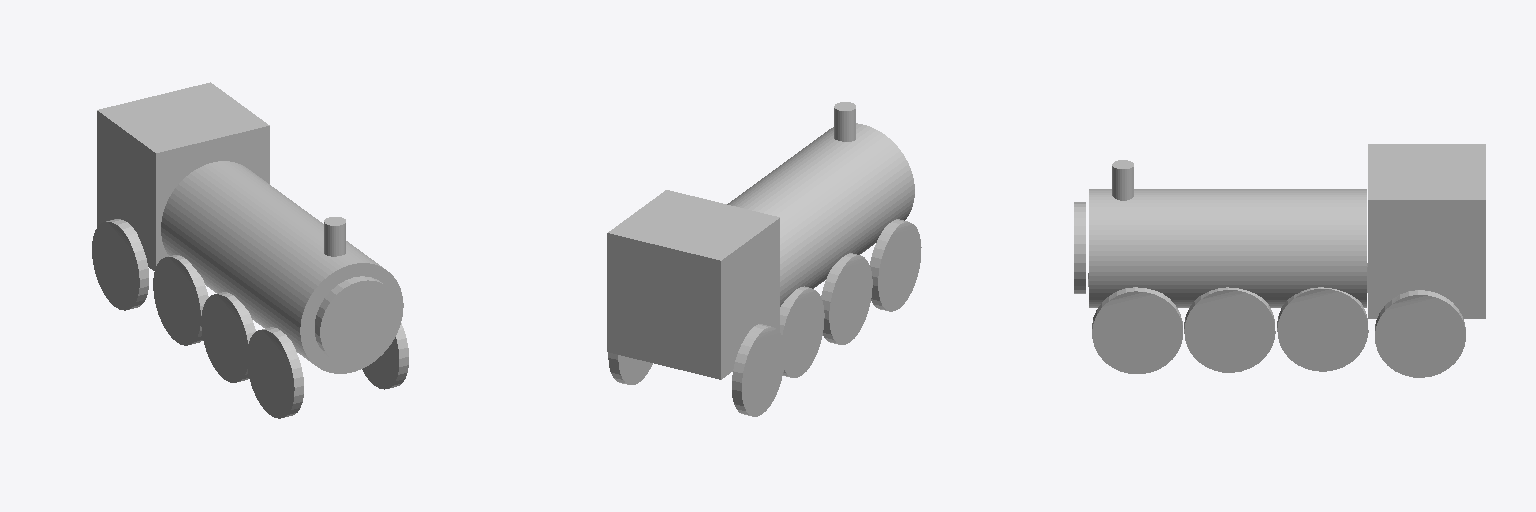
Rendered from trainHead(final)_.obj.
3 views of the same model, side by side, from view 1: azimuth 30°, elevation 25°; view 2: azimuth 150°, elevation 25°; view 3: azimuth 270°, elevation 25° (orthographic).
Visible parts, largest first — view 1: Cube_Cube.001; view 2: Cube_Cube.001; view 3: Cube_Cube.001.
Part boxes in pixels (x1,y1,x2,y2): Cube_Cube.001: (92,82,408,418); Cube_Cube.001: (607,102,921,416); Cube_Cube.001: (1074,144,1485,377).
Bounding box in the file's own units: 0.4699 × 0.5983 × 1.22.